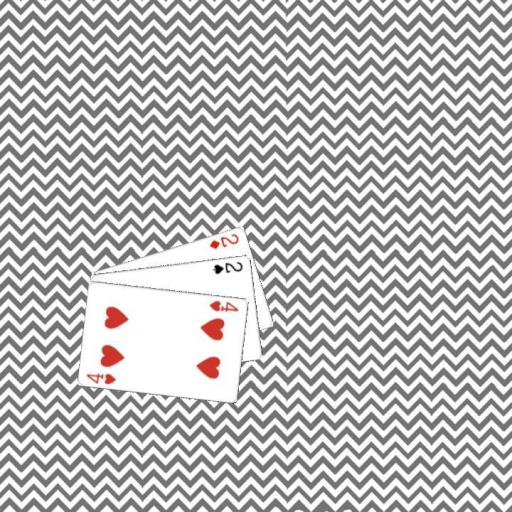2D: (207, 231, 241, 251)
2S: (210, 258, 245, 275)
4H: (206, 297, 240, 313), (84, 370, 117, 385)
